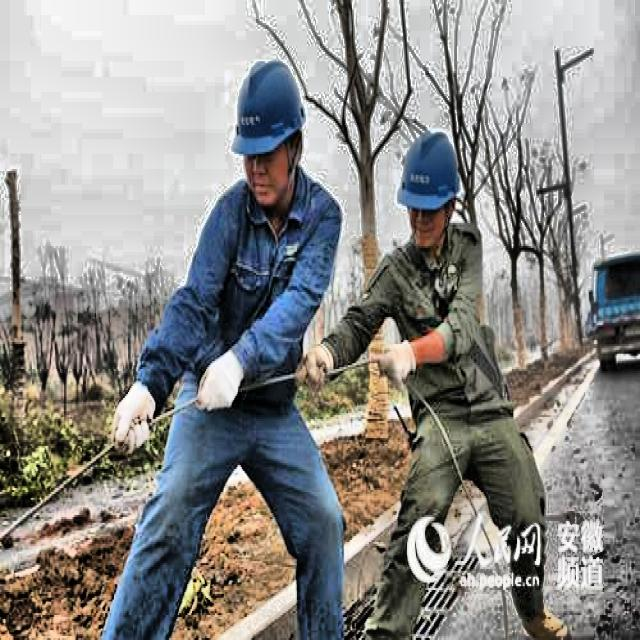helmet: (228, 48, 315, 215), (394, 123, 468, 256)
